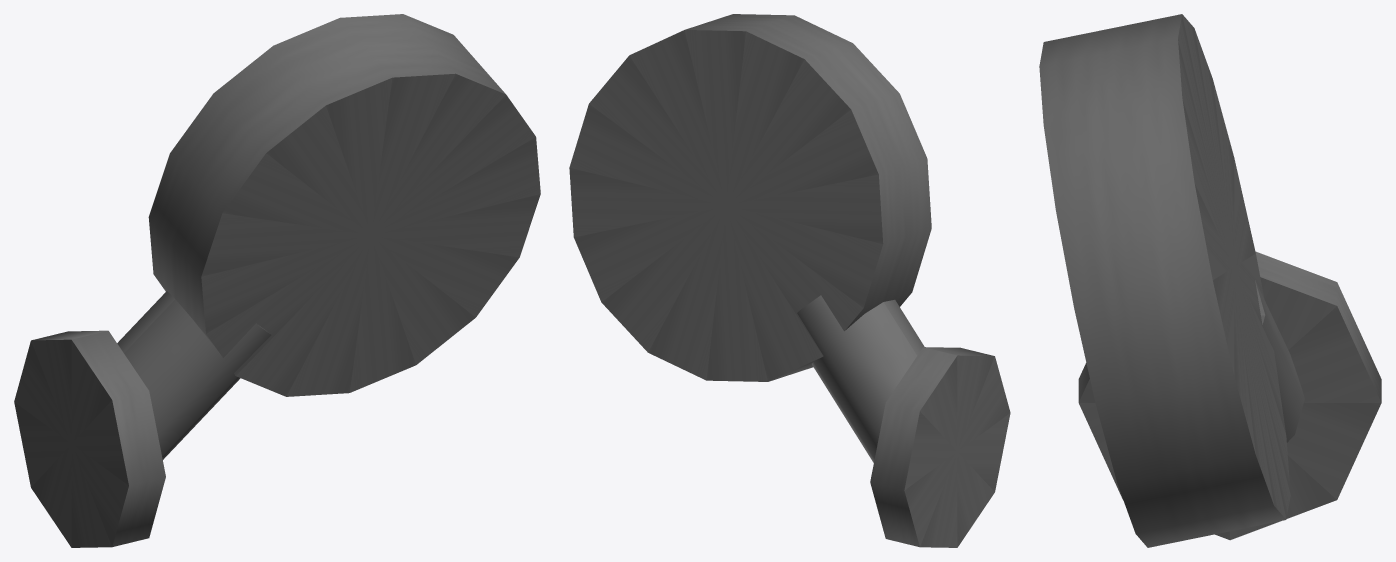
Rendered from mastarmcurve_10x2_c5_west.obj.
The picture shows the model from 3 angles, left to right: view 1: azimuth 30°, elevation 25°; view 2: azimuth 150°, elevation 25°; view 3: azimuth 270°, elevation 25°; orthographic projection. The views are drawn at different scales.
Visible parts, largest first — view 1: mastarm_10x2_c5_west; view 2: mastarm_10x2_c5_west; view 3: mastarm_10x2_c5_west.
Boxes of the visible parts, bbox=[...] form: mastarm_10x2_c5_west: bbox=[14, 14, 540, 547]; mastarm_10x2_c5_west: bbox=[569, 14, 1010, 547]; mastarm_10x2_c5_west: bbox=[1039, 14, 1381, 547].
Bounding box in the file's own units: 0.8405 × 0.9293 × 0.4518.
